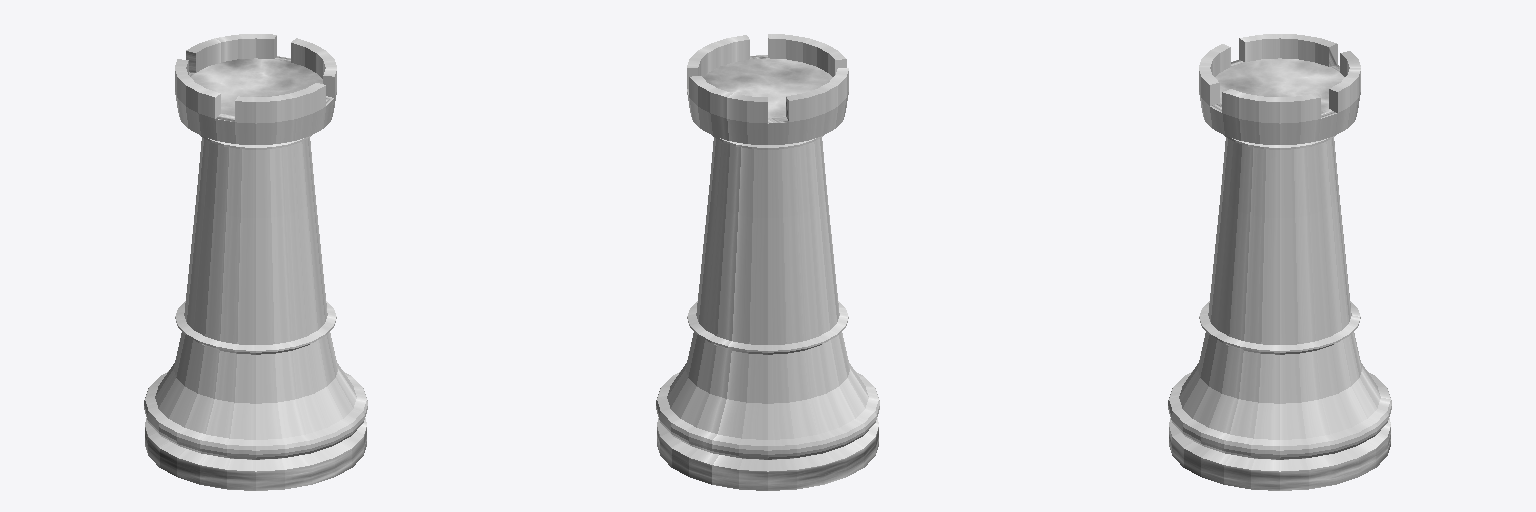
3 renders of one model, left to right at view 1: azimuth 30°, elevation 25°; view 2: azimuth 150°, elevation 25°; view 3: azimuth 270°, elevation 25°, orthographic.
Parts seen in each view (by area): view 1: Rook_Cylinder.012; view 2: Rook_Cylinder.012; view 3: Rook_Cylinder.012.
Part boxes in pixels (left/top/right/bottom): Rook_Cylinder.012: left=144, top=34, right=367, bottom=490; Rook_Cylinder.012: left=656, top=34, right=879, bottom=490; Rook_Cylinder.012: left=1168, top=34, right=1391, bottom=490.
Size of the model in its own units: 1.51 by 2.79 by 1.51.
Materials: 1 (1 with a texture image).